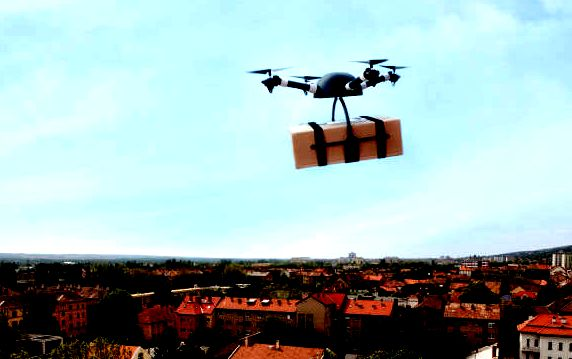Drone: (243, 53, 411, 103)
